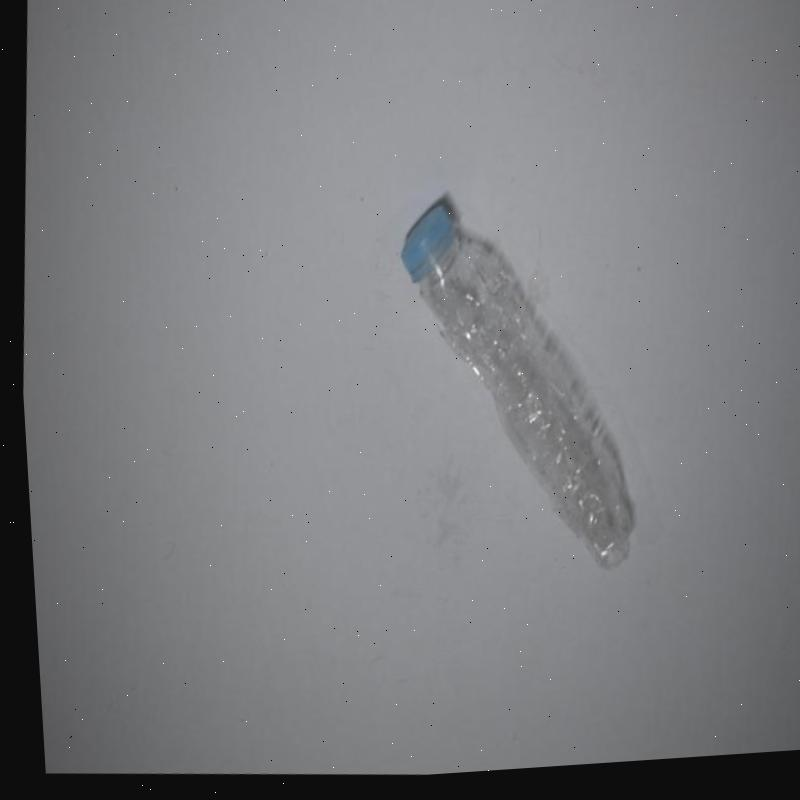botella: (372, 191, 650, 592)
